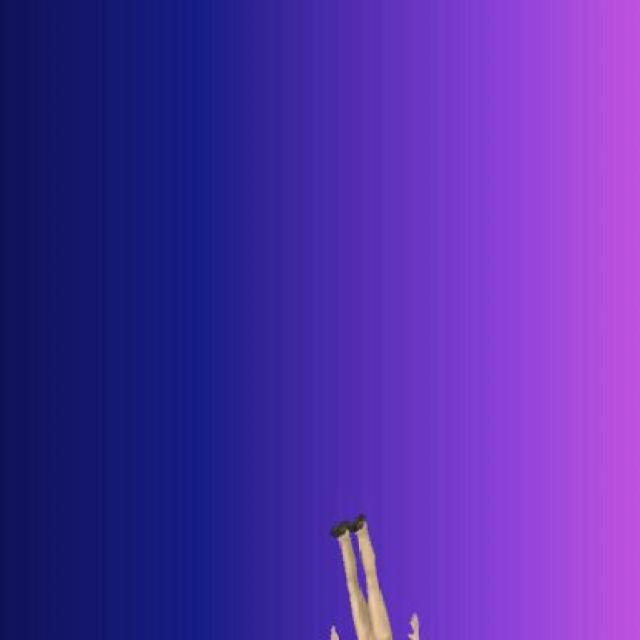Person: (317, 512, 423, 640)
